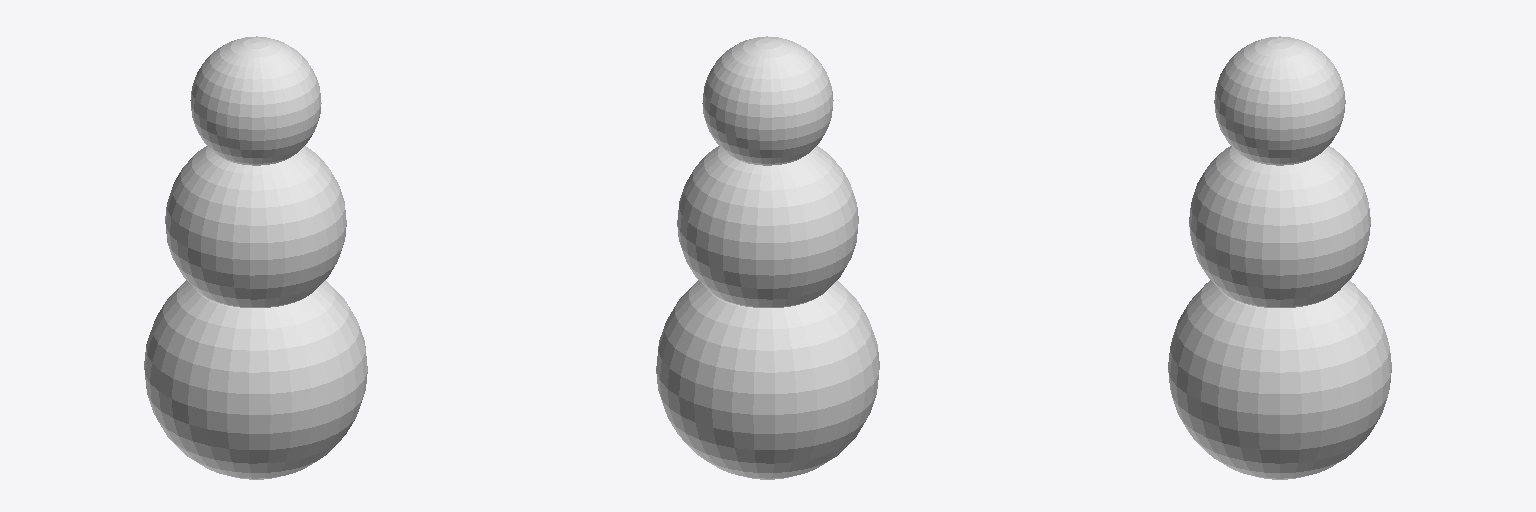
Rendered from snow_spheres.obj.
3 renders of one model, left to right at view 1: azimuth 30°, elevation 25°; view 2: azimuth 150°, elevation 25°; view 3: azimuth 270°, elevation 25°, orthographic.
Visible parts, largest first — view 1: Sphere, Sphere.001, Sphere.002; view 2: Sphere, Sphere.001, Sphere.002; view 3: Sphere, Sphere.001, Sphere.002.
Boxes of the visible parts, box(x1,y1,x2,y2) form: Sphere: box(144, 280, 367, 479); Sphere.001: box(165, 146, 346, 307); Sphere.002: box(190, 36, 321, 165); Sphere: box(656, 280, 879, 479); Sphere.001: box(677, 146, 858, 307); Sphere.002: box(702, 36, 833, 165); Sphere: box(1168, 280, 1391, 479); Sphere.001: box(1189, 146, 1370, 307); Sphere.002: box(1214, 36, 1345, 165).
Bounding box in the file's own units: 4.83 × 10.15 × 4.83.